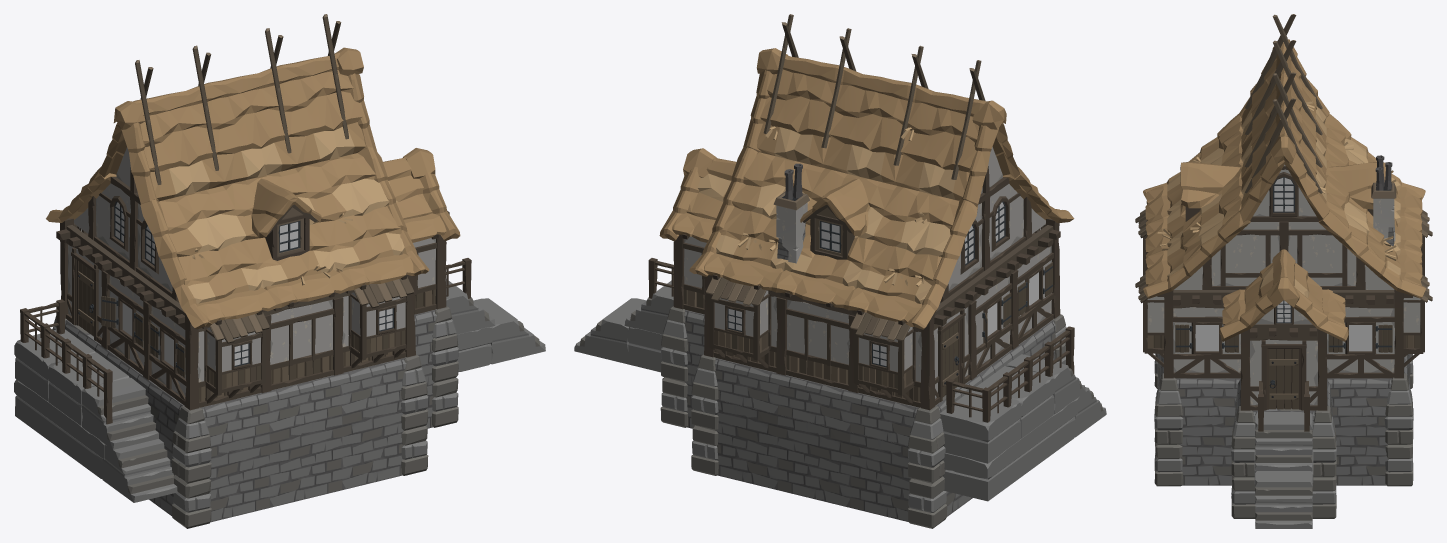
Rendered from SM_Bld_Preset_House_04_Optimized.fbx.
3 renders of one model, left to right at view 1: azimuth 30°, elevation 25°; view 2: azimuth 150°, elevation 25°; view 3: azimuth 270°, elevation 25°, orthographic. The views are drawn at different scales.
Visible parts, largest first — view 1: SM_Bld_Preset_House_04_Optimized, SM_Bld_Preset_House_04_Glass_Optimized; view 2: SM_Bld_Preset_House_04_Optimized, SM_Bld_Preset_House_04_Glass_Optimized; view 3: SM_Bld_Preset_House_04_Optimized, SM_Bld_Preset_House_04_Glass_Optimized.
Part boxes in pixels (x1,y1,x2,y2): SM_Bld_Preset_House_04_Optimized: (14, 14, 545, 528); SM_Bld_Preset_House_04_Glass_Optimized: (115, 202, 392, 366); SM_Bld_Preset_House_04_Optimized: (574, 14, 1106, 528); SM_Bld_Preset_House_04_Glass_Optimized: (728, 202, 1038, 365); SM_Bld_Preset_House_04_Optimized: (1135, 14, 1432, 528); SM_Bld_Preset_House_04_Glass_Optimized: (1195, 178, 1372, 351).
Size of the model in its own units: 1583 by 1350 by 969.
